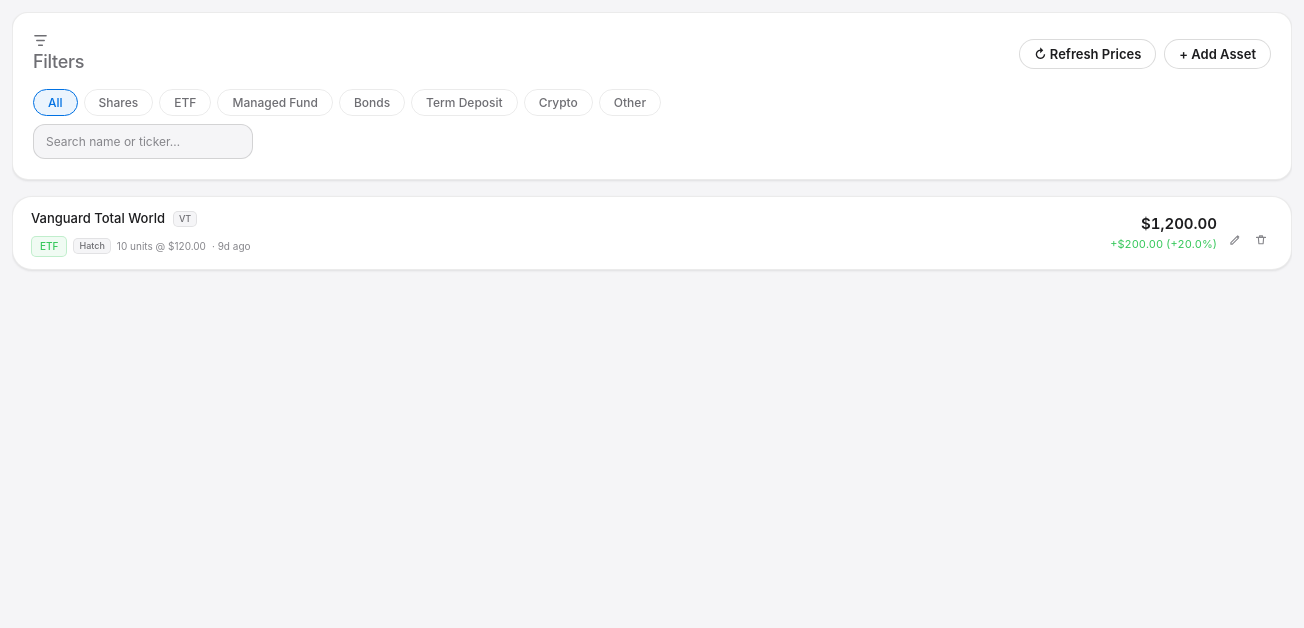
Test case: AssetDetail — position summary › shows position stat tiles
This screenshot has width=1304, height=628.
Click the text "Vanguard Total World". click: (98, 219)
box: x1=31 y1=209 x2=165 y2=228
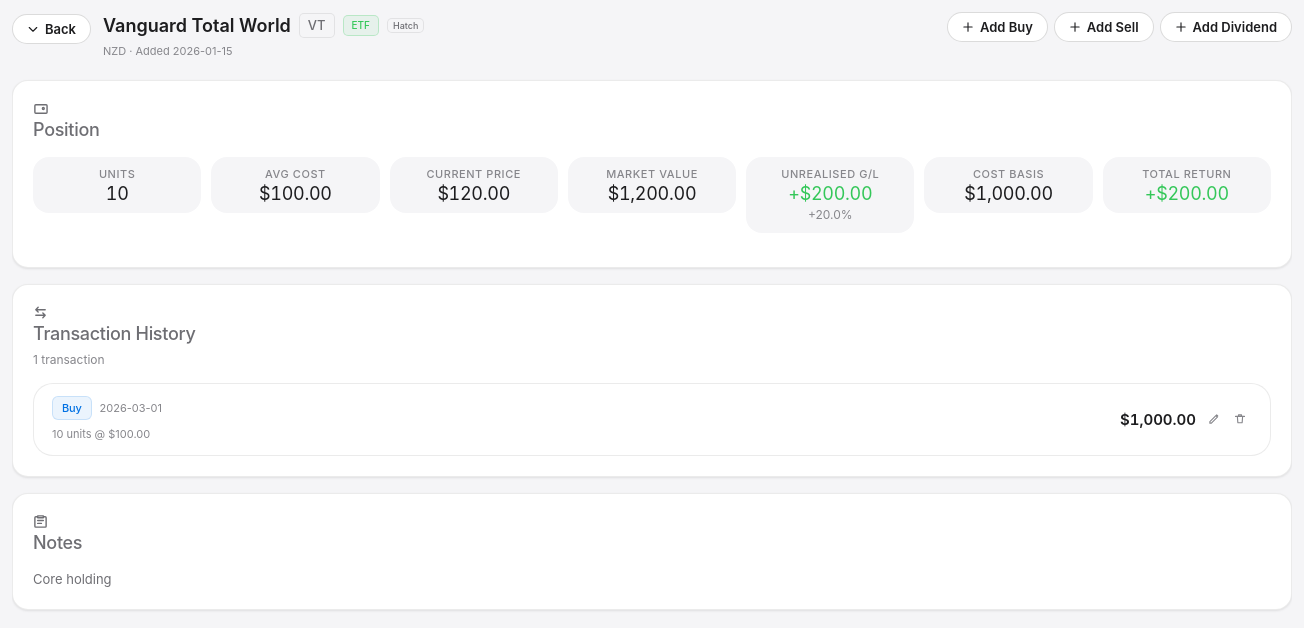
Check: the text "Units" is shown, box x1=99 y1=166 x2=135 y2=182
Check: the text "Avg Cost" is shown, box x1=265 y1=166 x2=326 y2=182
Check: the text "Current Price" is shown, box x1=426 y1=166 x2=521 y2=182
